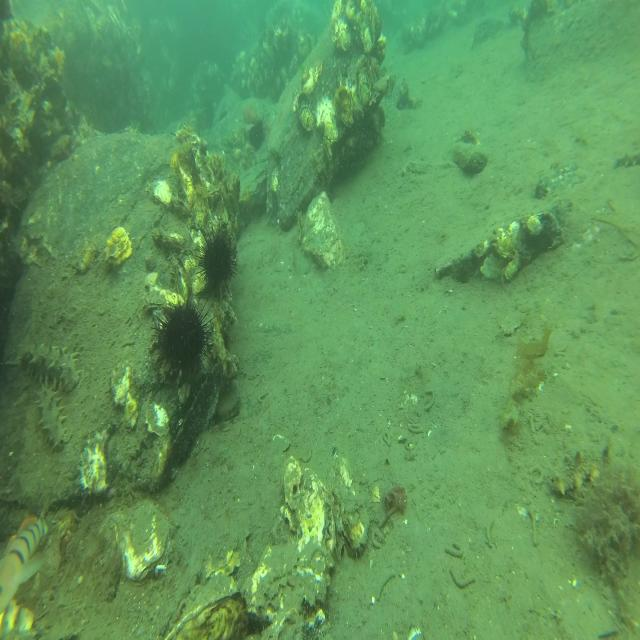echinus: (150, 292, 213, 392), (193, 228, 242, 300)
holothurian: (18, 339, 79, 392), (34, 381, 70, 455), (613, 148, 639, 169)
